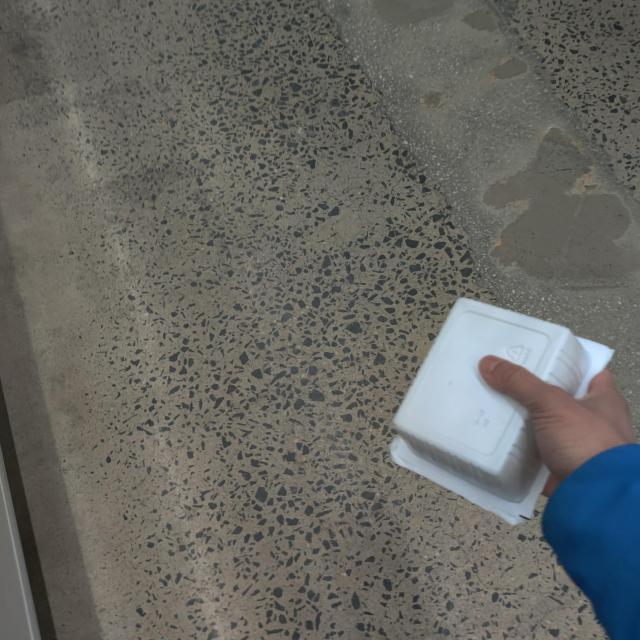Tofu: (381, 282, 621, 531)
